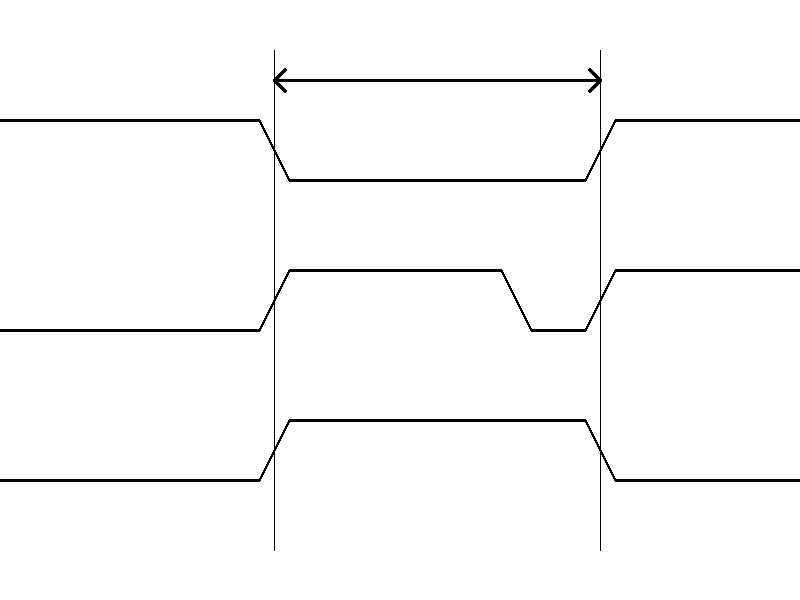double_arrow: (274, 65, 600, 95)
